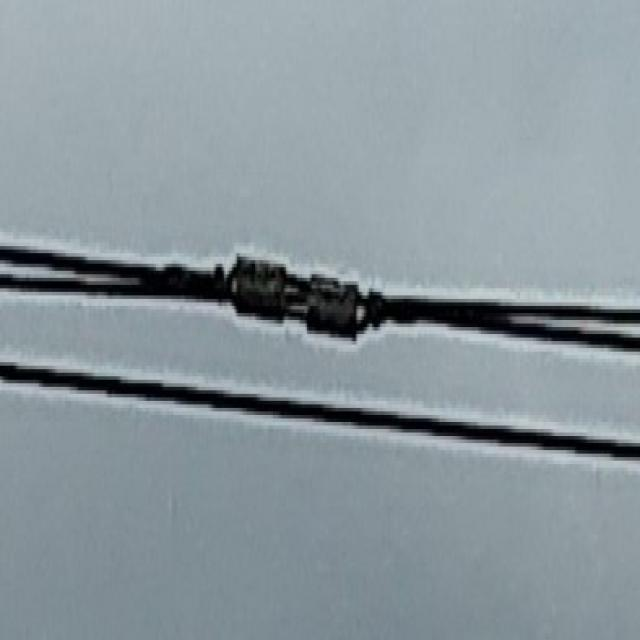wire: (0, 224, 640, 373)
